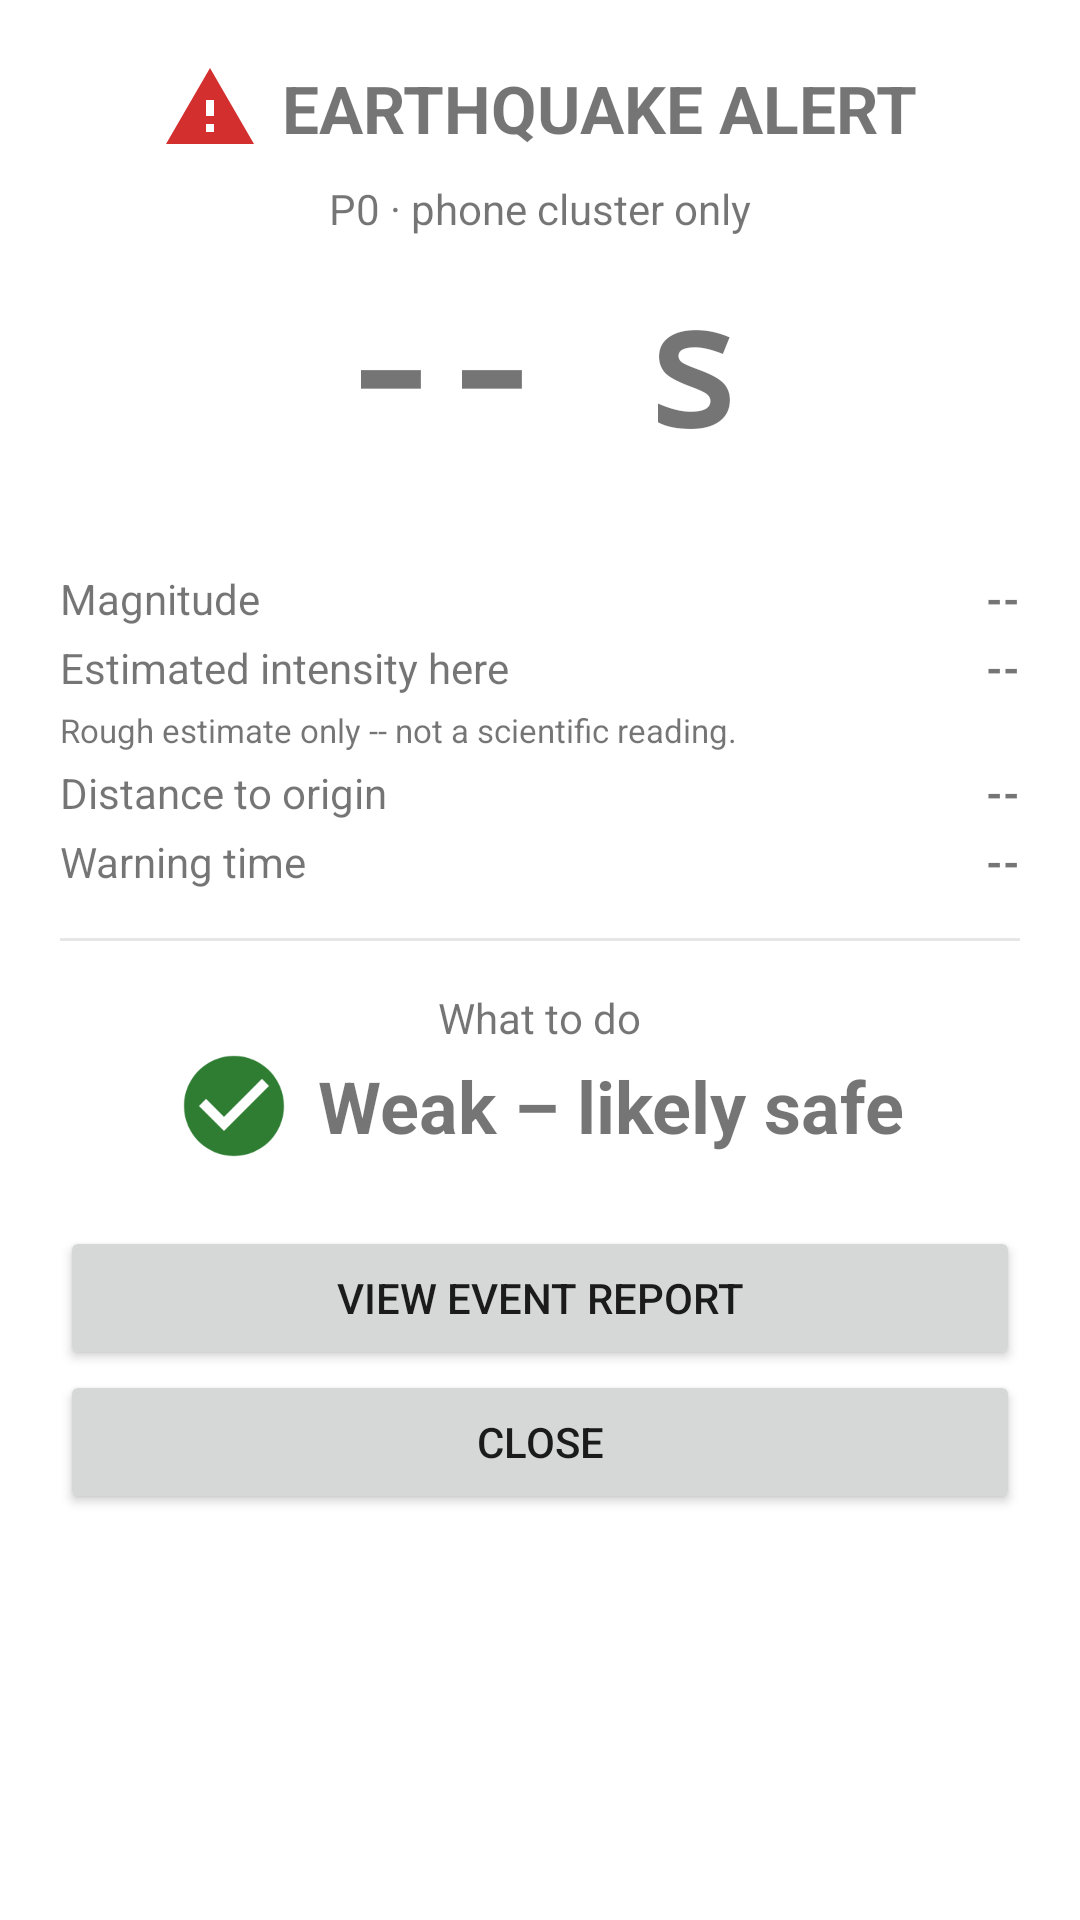

Screen size 1080px×1920px. Icon name, then its center in pixels as [x,y]:
Alert tier icon: [210,106]
Protection status icon: [234,1105]
